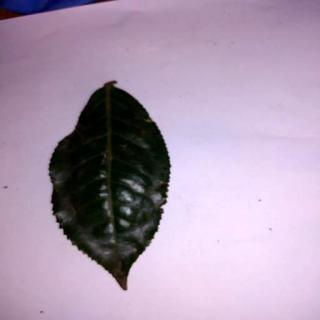Bird Eye Spot: (49, 85, 171, 290)
